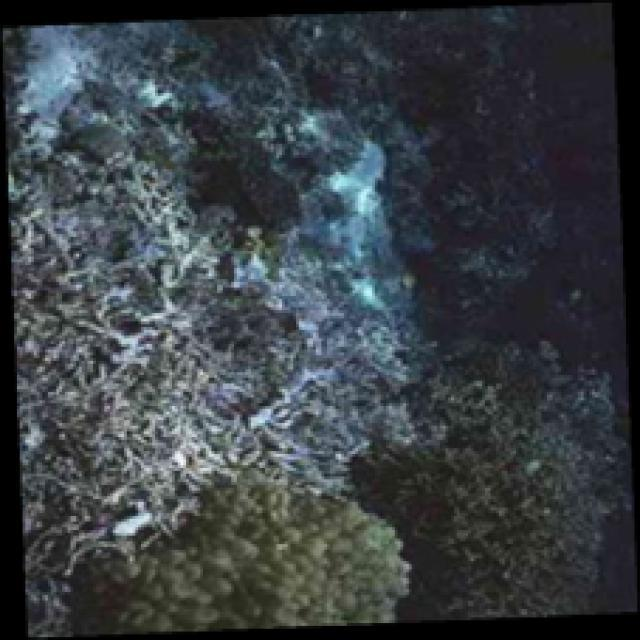Dead Coral: (18, 173, 366, 480)
